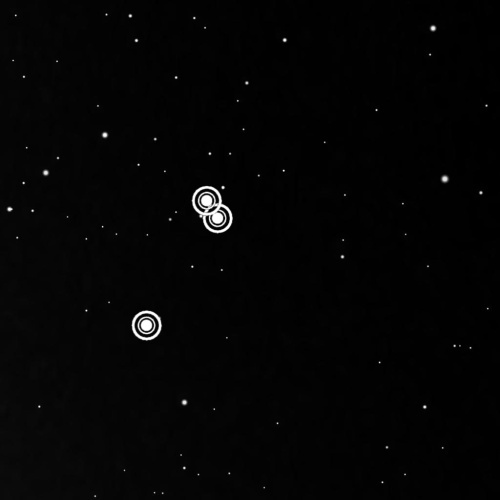canis_minor: (122, 177, 240, 352)
